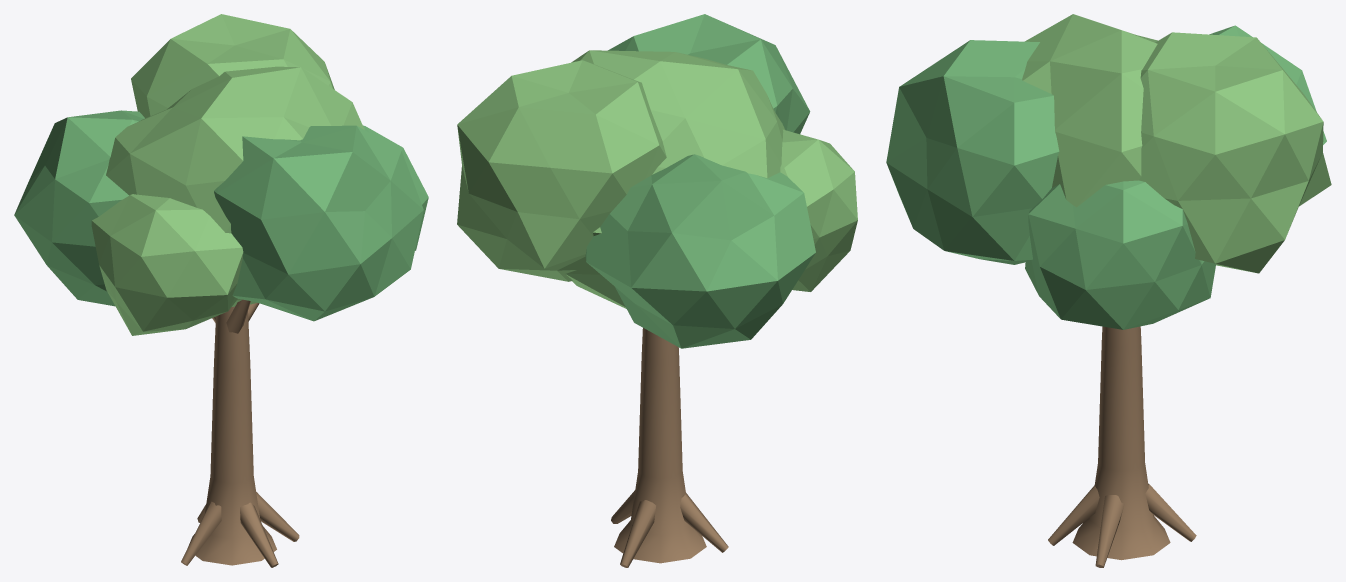
Rendered from tree_broad_0.fbx.
3 renders of one model, left to right at view 1: azimuth 30°, elevation 25°; view 2: azimuth 150°, elevation 25°; view 3: azimuth 270°, elevation 25°, orthographic. The views are drawn at different scales.
Visible parts, largest first — view 1: tree_broad_0; view 2: tree_broad_0; view 3: tree_broad_0.
Boxes of the visible parts, x1,y1,x2,y2 form: tree_broad_0: (14, 14, 428, 567); tree_broad_0: (457, 14, 857, 567); tree_broad_0: (886, 14, 1331, 567).
Size of the model in its own units: 4.54 by 5.88 by 4.65.
